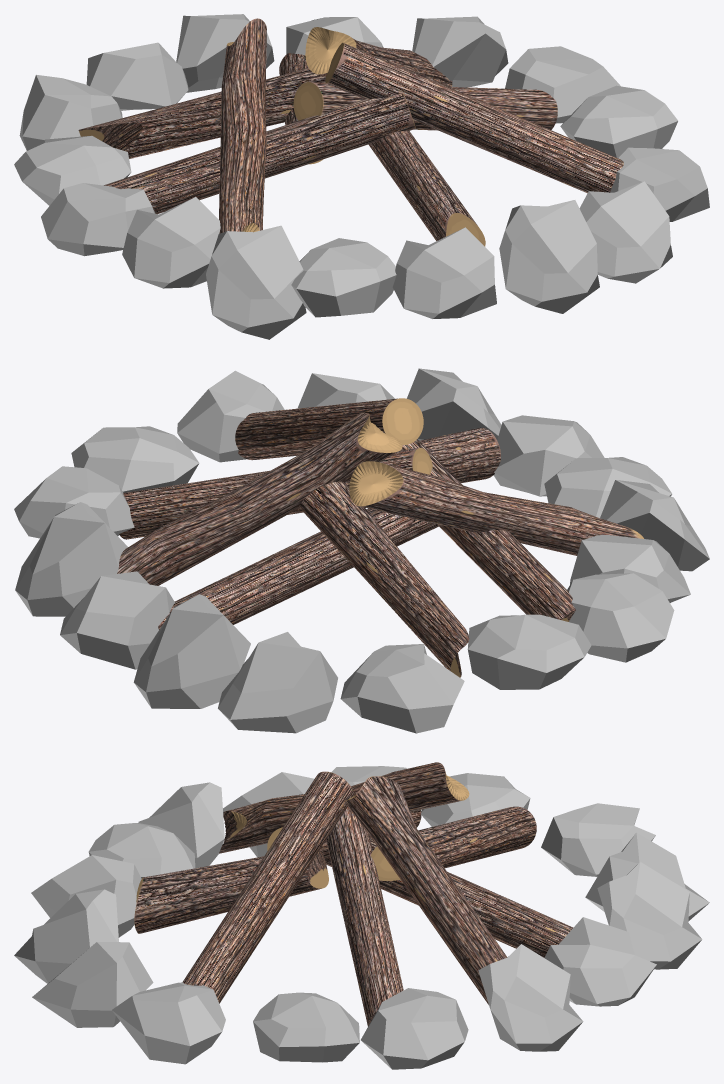
Rendered from feu_de_camp.fbx.
The picture shows the model from 3 angles, top to bottom: view 1: azimuth 30°, elevation 25°; view 2: azimuth 150°, elevation 25°; view 3: azimuth 270°, elevation 25°; orthographic projection. The views are drawn at different scales.
Parts seen in each view (by area): view 1: Cube.010; view 2: Cube.010; view 3: Cube.010.
Boxes of the visible parts, x1,y1,x2,y2 form: Cube.010: (14, 14, 709, 339); Cube.010: (14, 368, 709, 733); Cube.010: (14, 762, 709, 1069).
Bounding box in the file's own units: 97.79 × 29.03 × 103.
